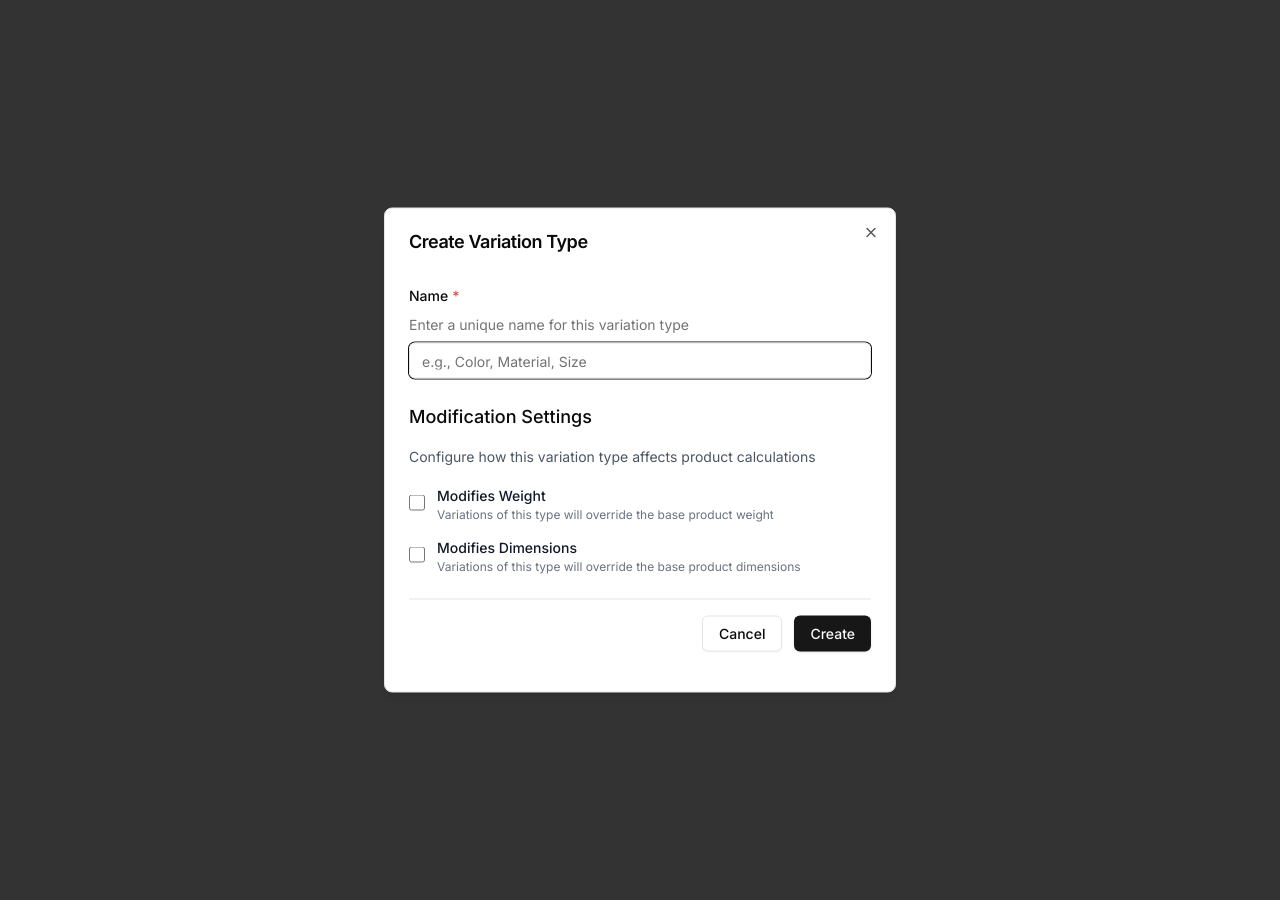
Test: VariationTypeForm › validates required fields
The width and height of the screenshot is (1280, 900).
Step 1. Click the button "Create" → (833, 634), box [794,616,871,652]
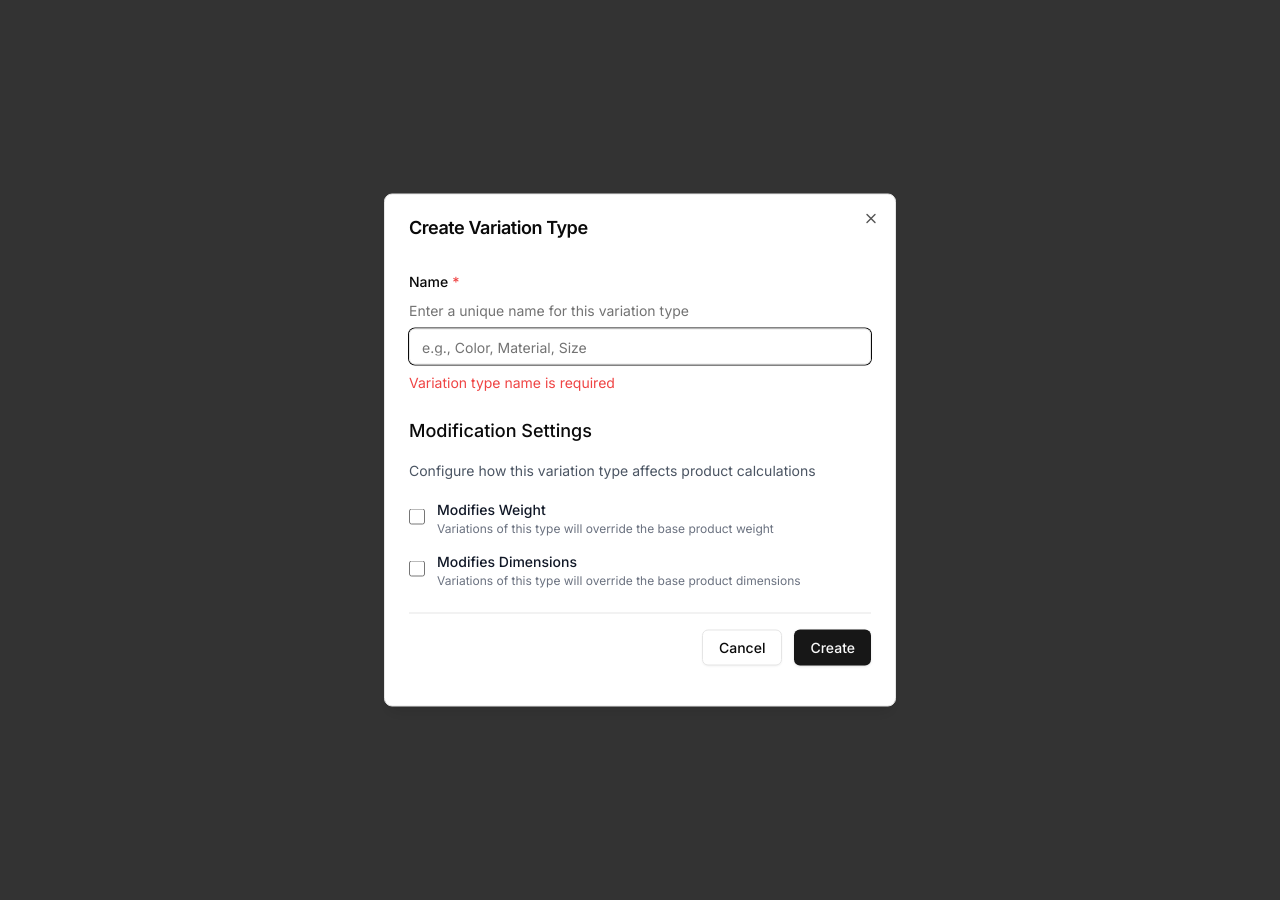
Expected: the text "Variation type name is required" is shown, [409,374,615,390]
